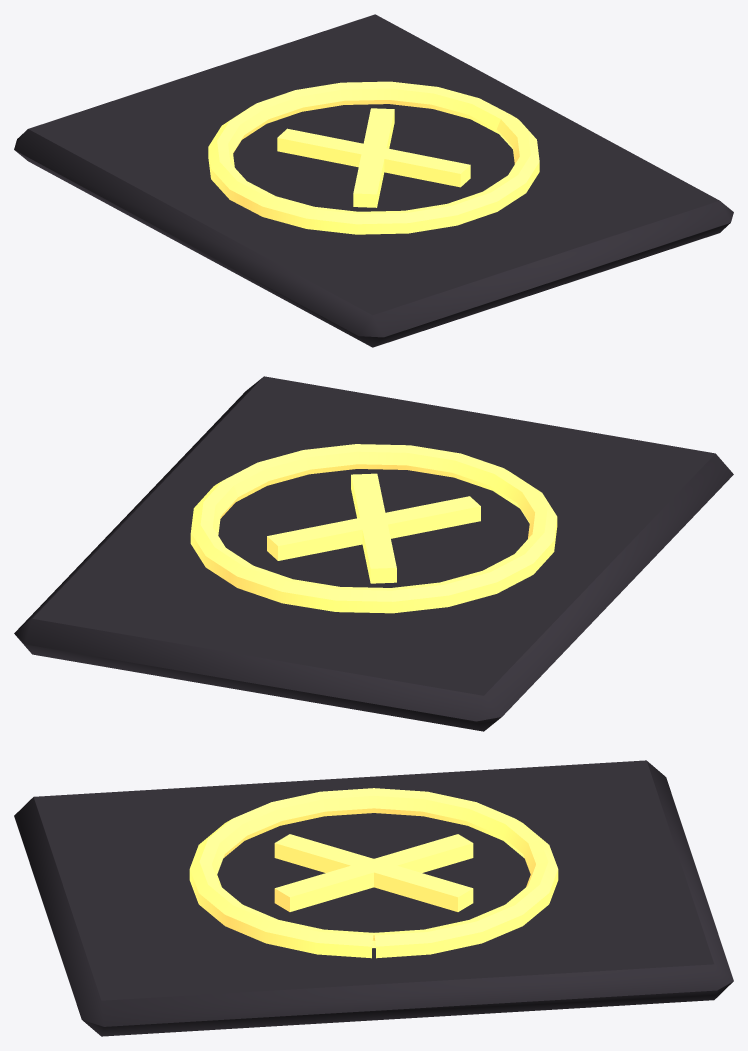
The model's file is ash_sigil.glb.
The picture shows the model from 3 angles, top to bottom: view 1: azimuth 30°, elevation 25°; view 2: azimuth 150°, elevation 25°; view 3: azimuth 270°, elevation 25°; orthographic projection. The views are drawn at different scales.
Parts seen in each view (by area): view 1: ash_sigil; view 2: ash_sigil; view 3: ash_sigil.
Part boxes in pixels (x1,y1,x2,y2): ash_sigil: (14, 14, 733, 347); ash_sigil: (14, 376, 733, 731); ash_sigil: (14, 760, 733, 1036).
Bounding box in the file's own units: 0.0923 × 0.00914 × 0.1093.
